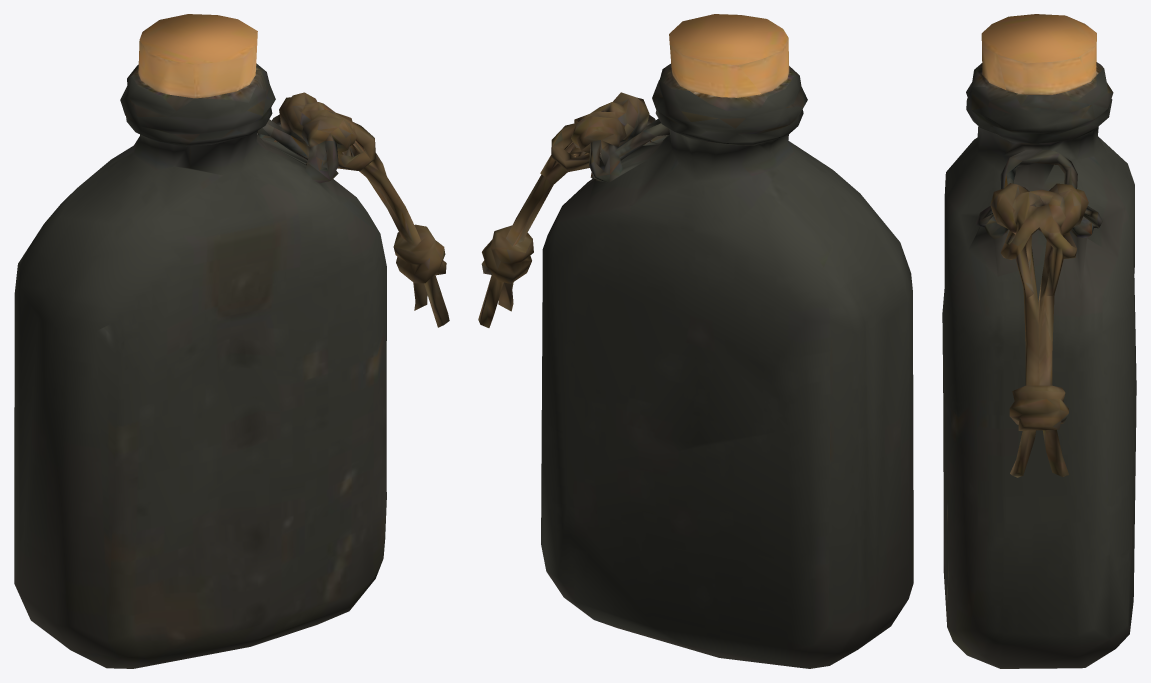
File: flask.glb
3 views of the same model, side by side, from view 1: azimuth 30°, elevation 25°; view 2: azimuth 150°, elevation 25°; view 3: azimuth 270°, elevation 25° (orthographic).
Parts seen in each view (by area): view 1: Mesh_0; view 2: Mesh_0; view 3: Mesh_0.
Part boxes in pixels (x1,y1,x2,y2): Mesh_0: (14,14,449,668); Mesh_0: (478,14,913,668); Mesh_0: (942,14,1136,668).
Bounding box in the file's own units: 0.7165 × 1 × 0.3041.
Materials: 1 (1 with a texture image).
